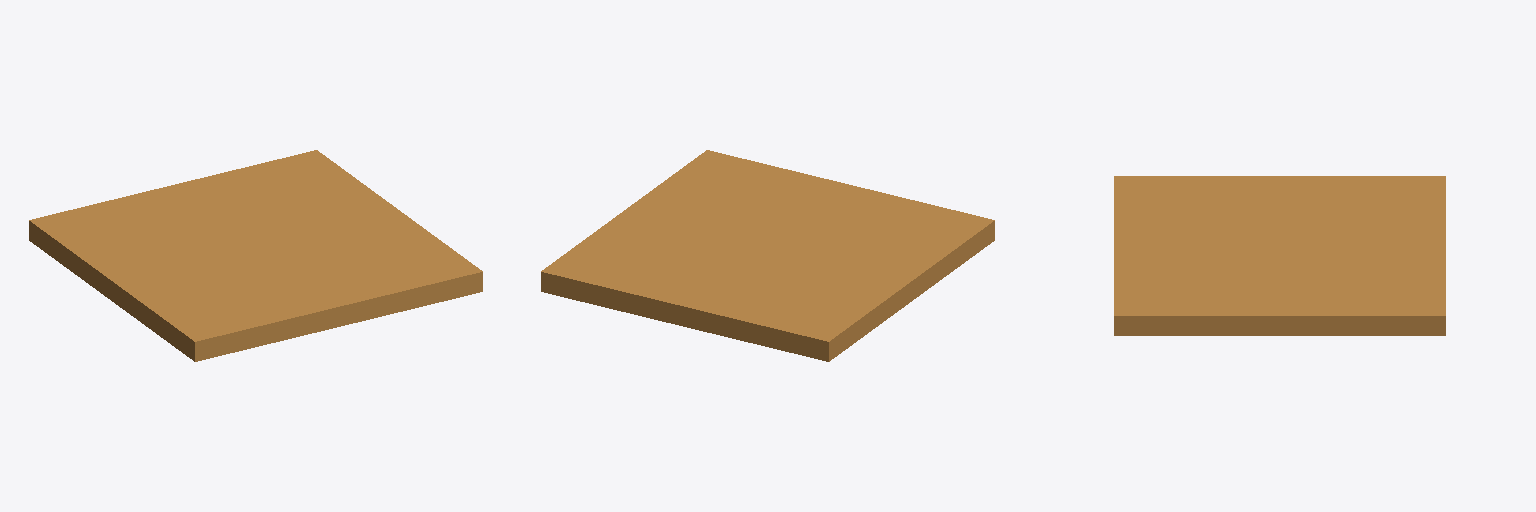
Rendered from planepanel.obj.
The picture shows the model from 3 angles: view 1: azimuth 30°, elevation 25°; view 2: azimuth 150°, elevation 25°; view 3: azimuth 270°, elevation 25°; orthographic projection.
Parts seen in each view (by area): view 1: planepanel; view 2: planepanel; view 3: planepanel.
Boxes of the visible parts, <box> form: planepanel: <box>29,150,482,361</box>; planepanel: <box>541,150,994,361</box>; planepanel: <box>1114,176,1445,335</box>.
Size of the model in its own units: 2.08 by 0.1393 by 2.08.